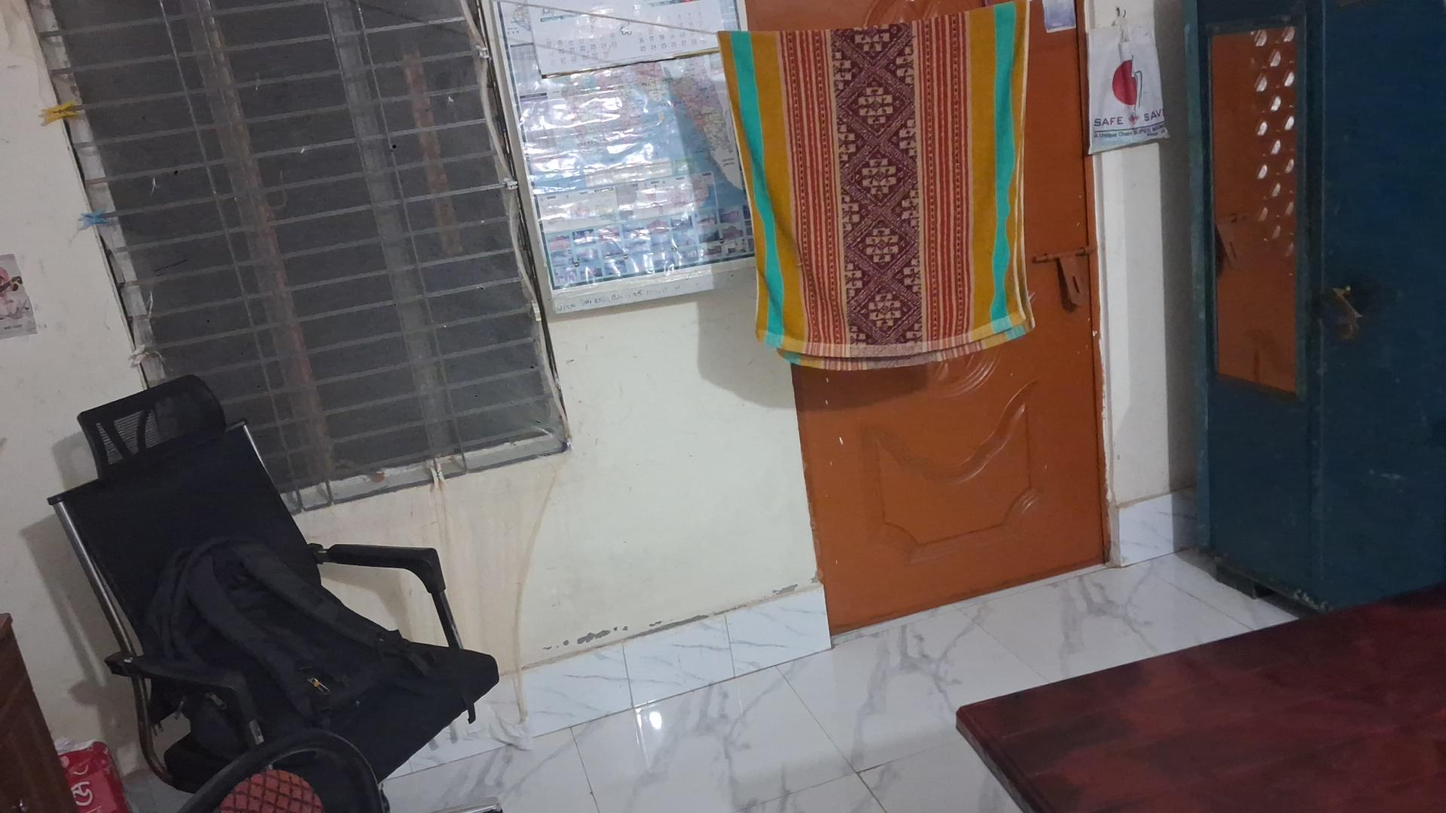Bag: (171, 536, 382, 731), (1086, 15, 1174, 159)
Chair: (47, 419, 501, 802)
Door: (754, 0, 1123, 608)
Mirror: (1195, 28, 1312, 385)
Table: (949, 615, 1446, 813)
Towel: (712, 11, 1045, 370)
Window: (23, 2, 566, 464)
